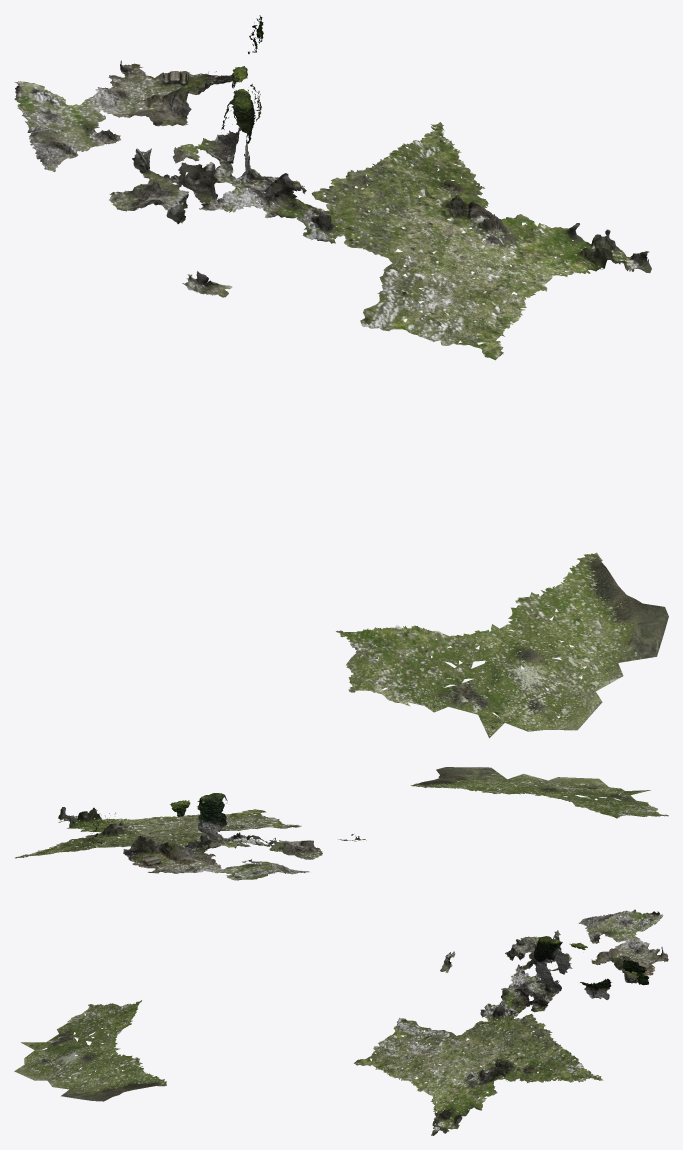
The picture shows the model from 3 angles, top to bottom: view 1: azimuth 30°, elevation 25°; view 2: azimuth 150°, elevation 25°; view 3: azimuth 270°, elevation 25°; orthographic projection. The views are drawn at different scales.
Bounding box in the file's own units: 59.25 × 27.2 × 95.24.
Materials: 1 (1 with a texture image).
